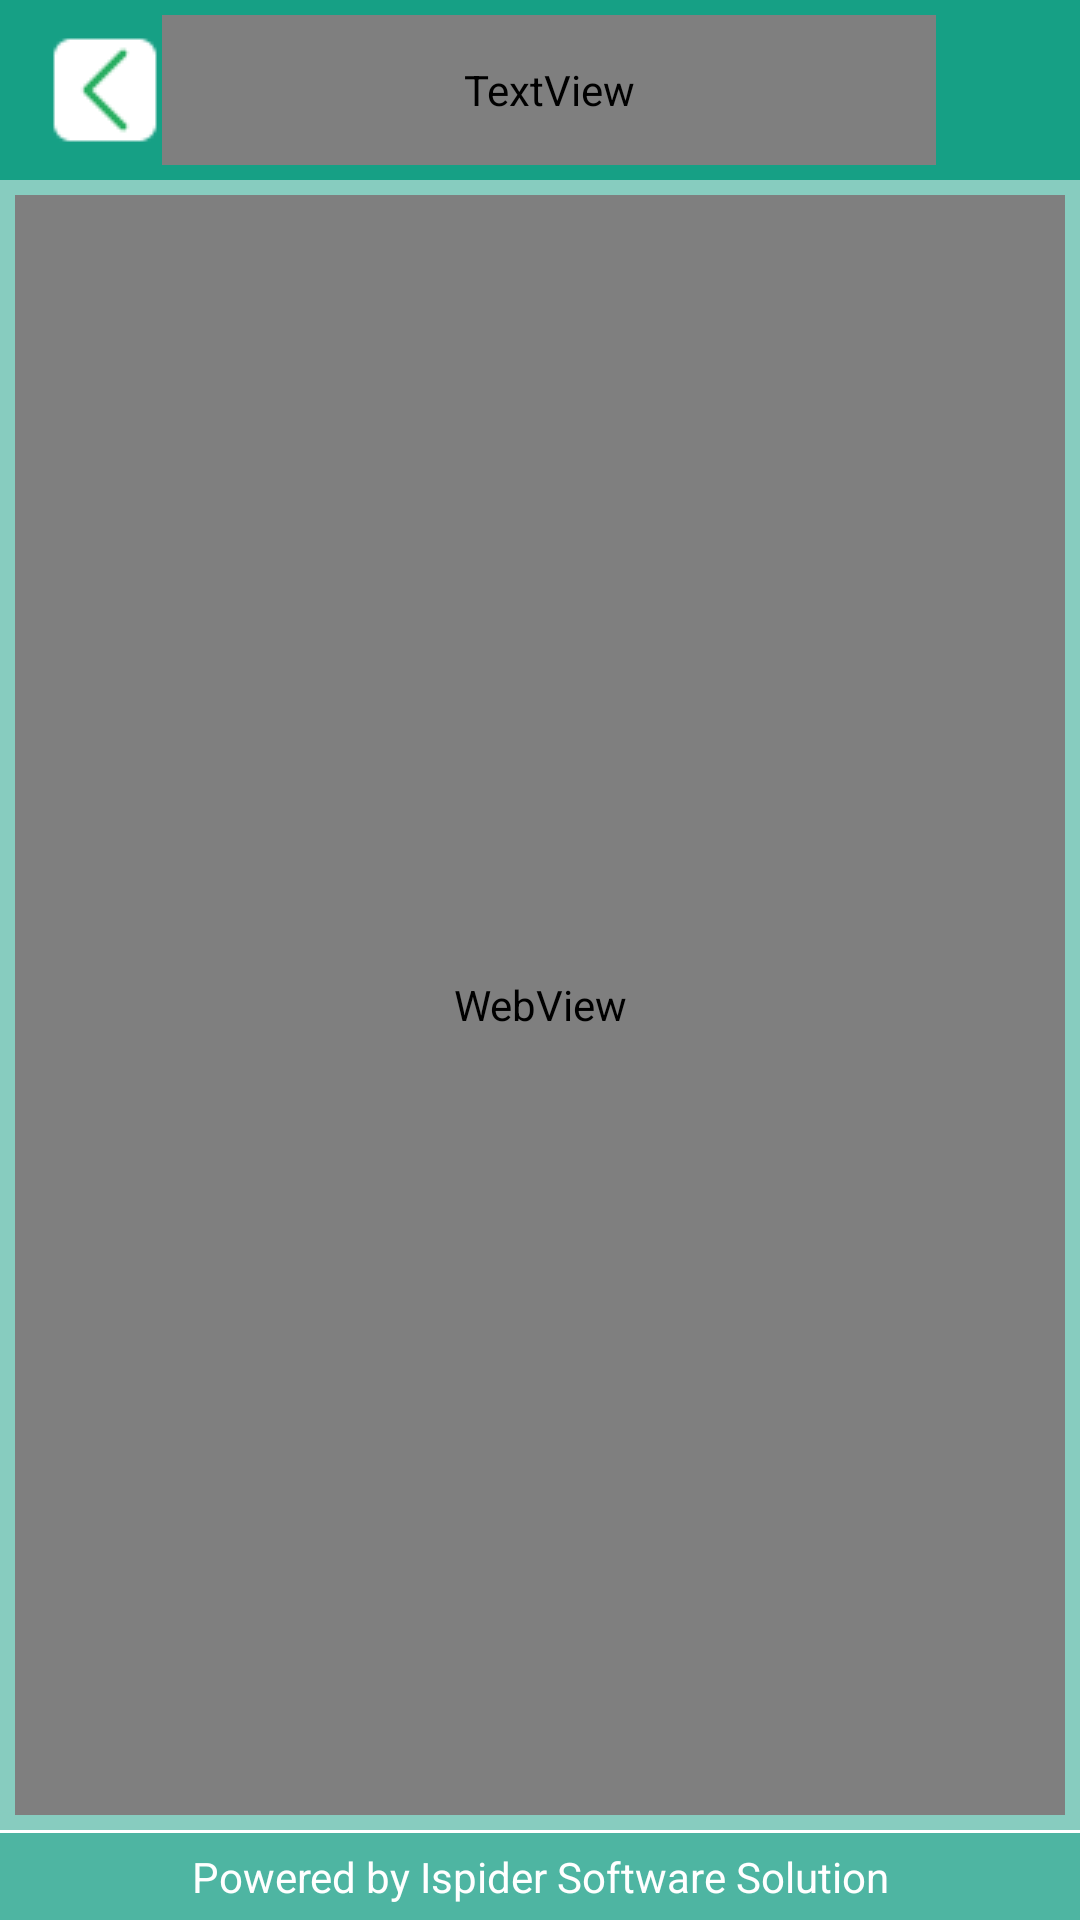

Named icons in this screenshot (1080×1920) and their bounding boxes, (x1, y1, x2, y2):
back: (53, 38, 157, 142)
